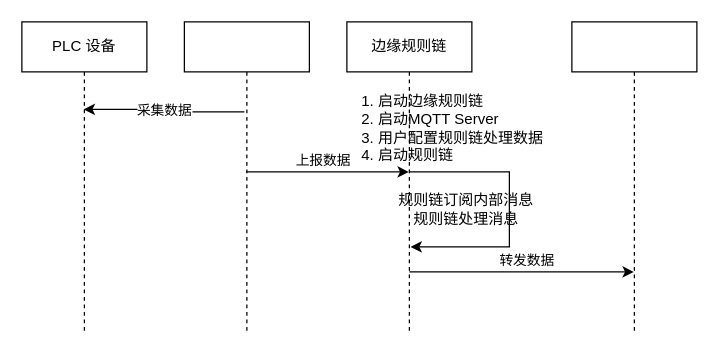
Image size: 719x356. Some labels were removed from this diagram. Here are the shapes that lost their labels. From the top down, the box of each, then its label:
(183, 21, 309, 334): 数采网关
(571, 21, 697, 334): 应用
